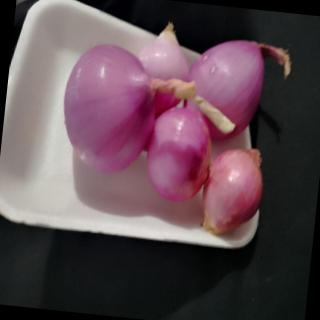Bawang Merah: (56, 36, 166, 179), (174, 31, 296, 147), (198, 141, 270, 238)
